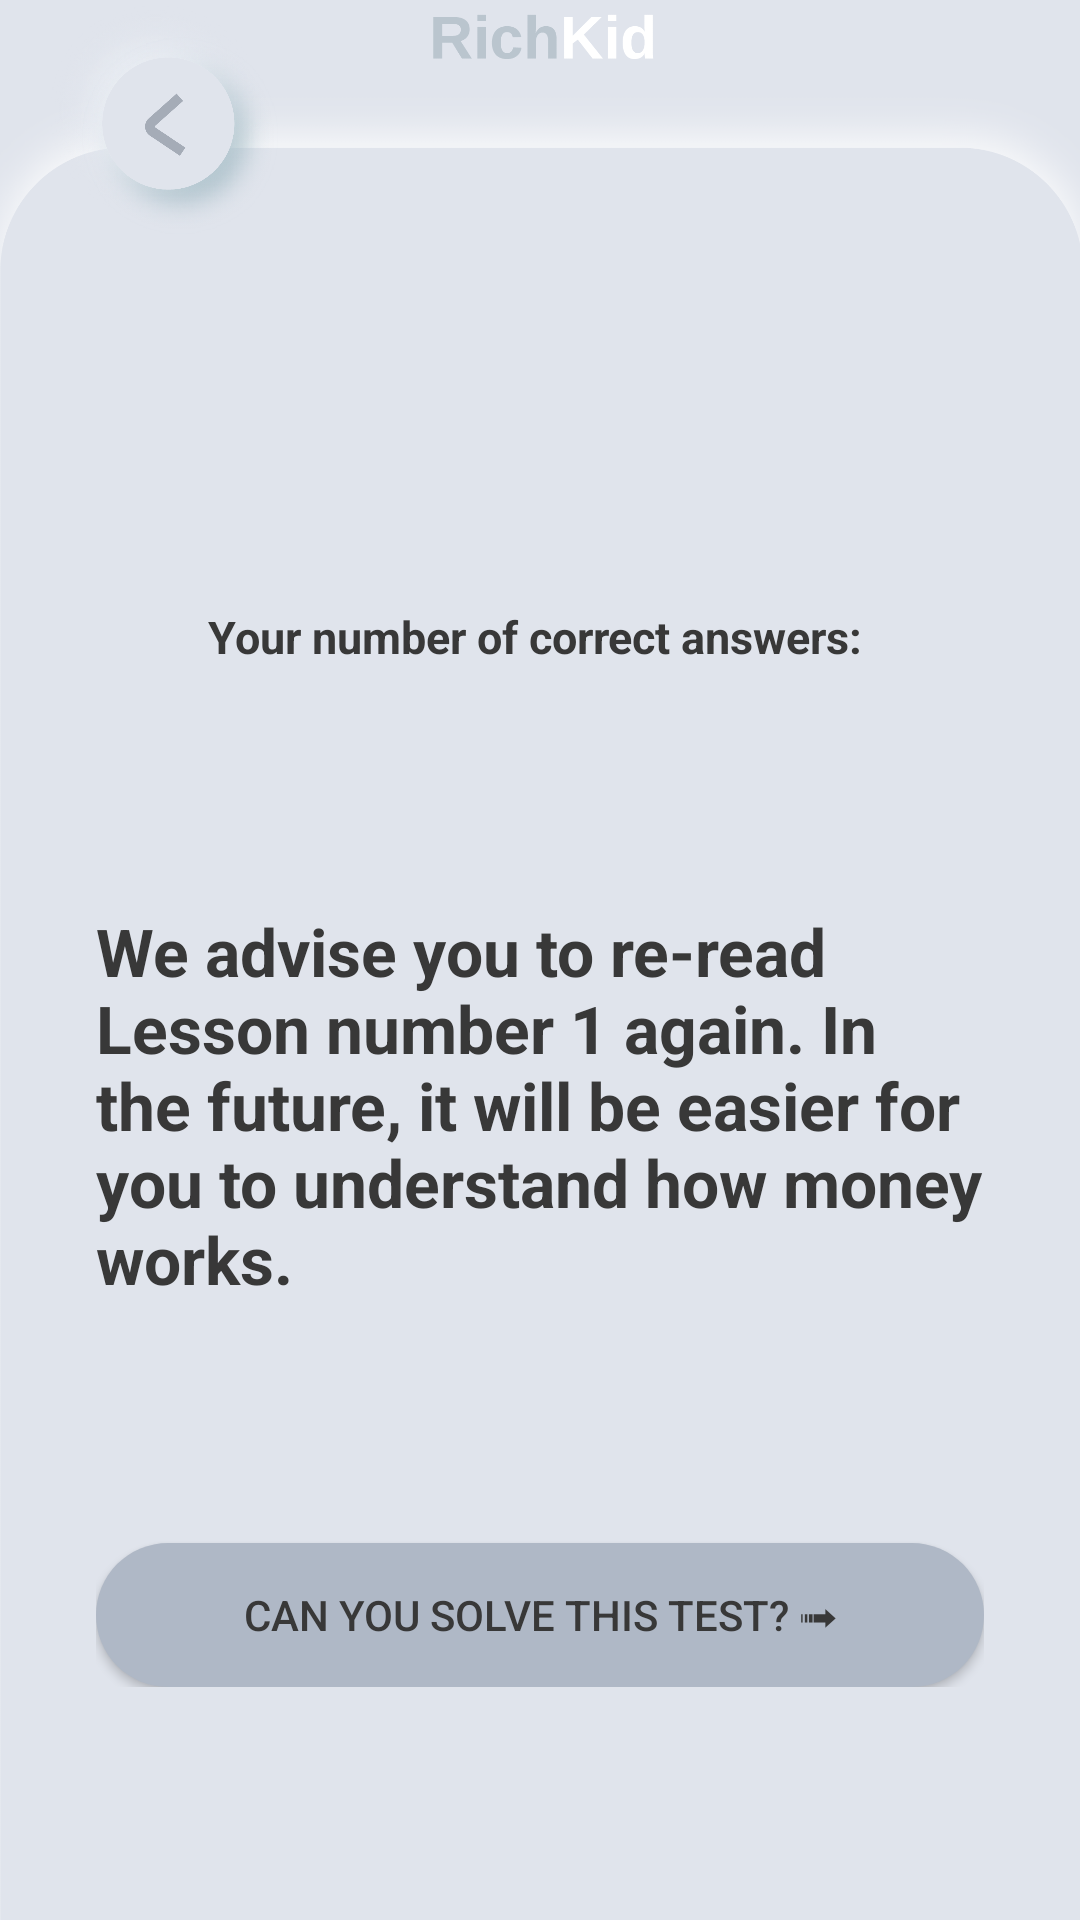

Named icons in this screenshot (1080x1920) and their centers, point (x, y):
custom back: point (196, 148)
